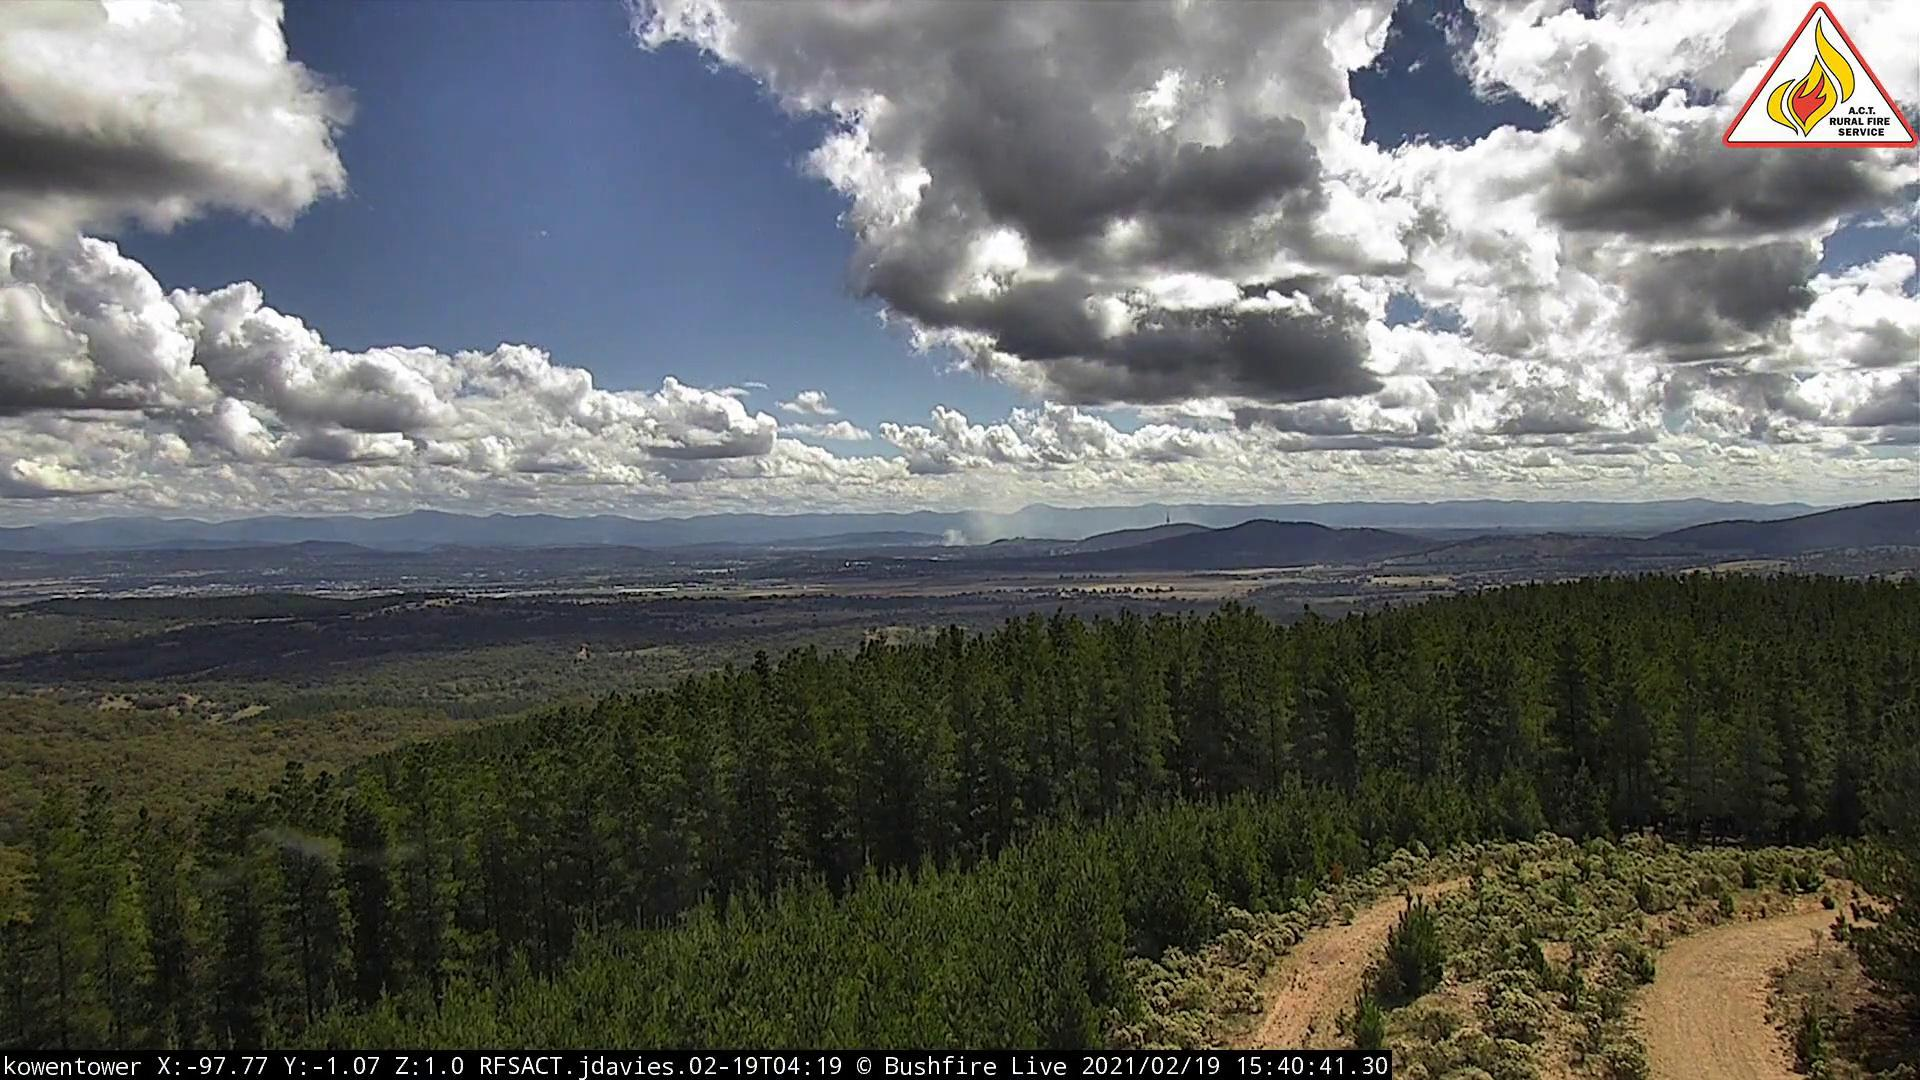instance_salient_object: (935, 496, 1054, 553), (600, 534, 620, 553)
